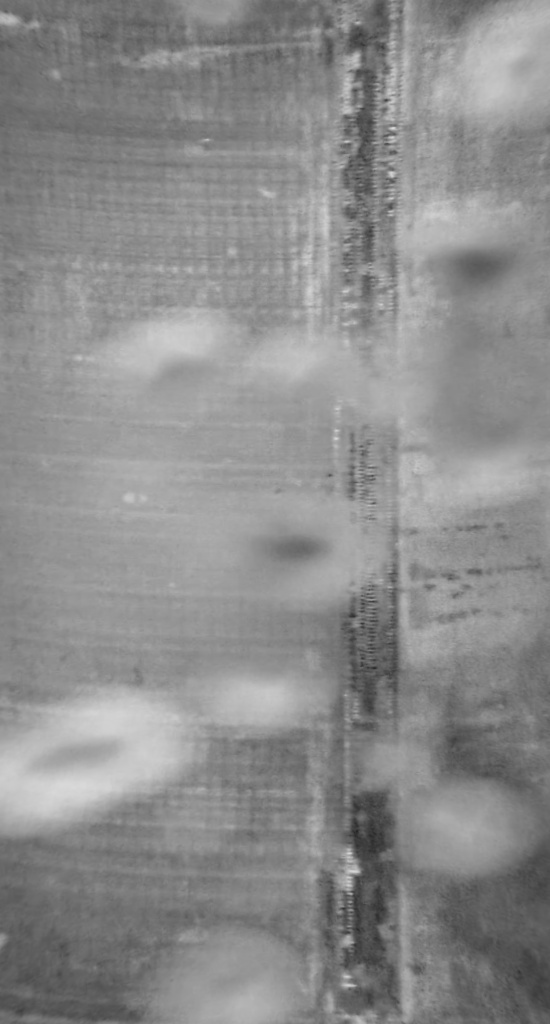splice: (317, 1, 420, 1024)
